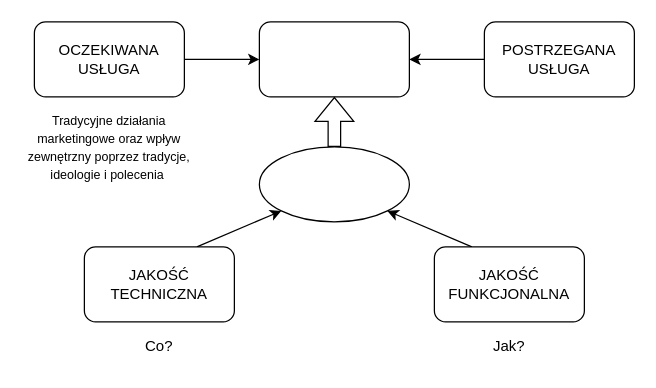
Image size: 656x388. Some labels were removed from this diagram. The shapes that lost their labels are listed below. From the top down, each one's box as (x1, y1, x2, y2) in pixels, then its label:
(258, 21, 409, 97): POSTRZEGANA JAKOŚĆ USŁUGI
(258, 146, 409, 222): WIZERUNEK
